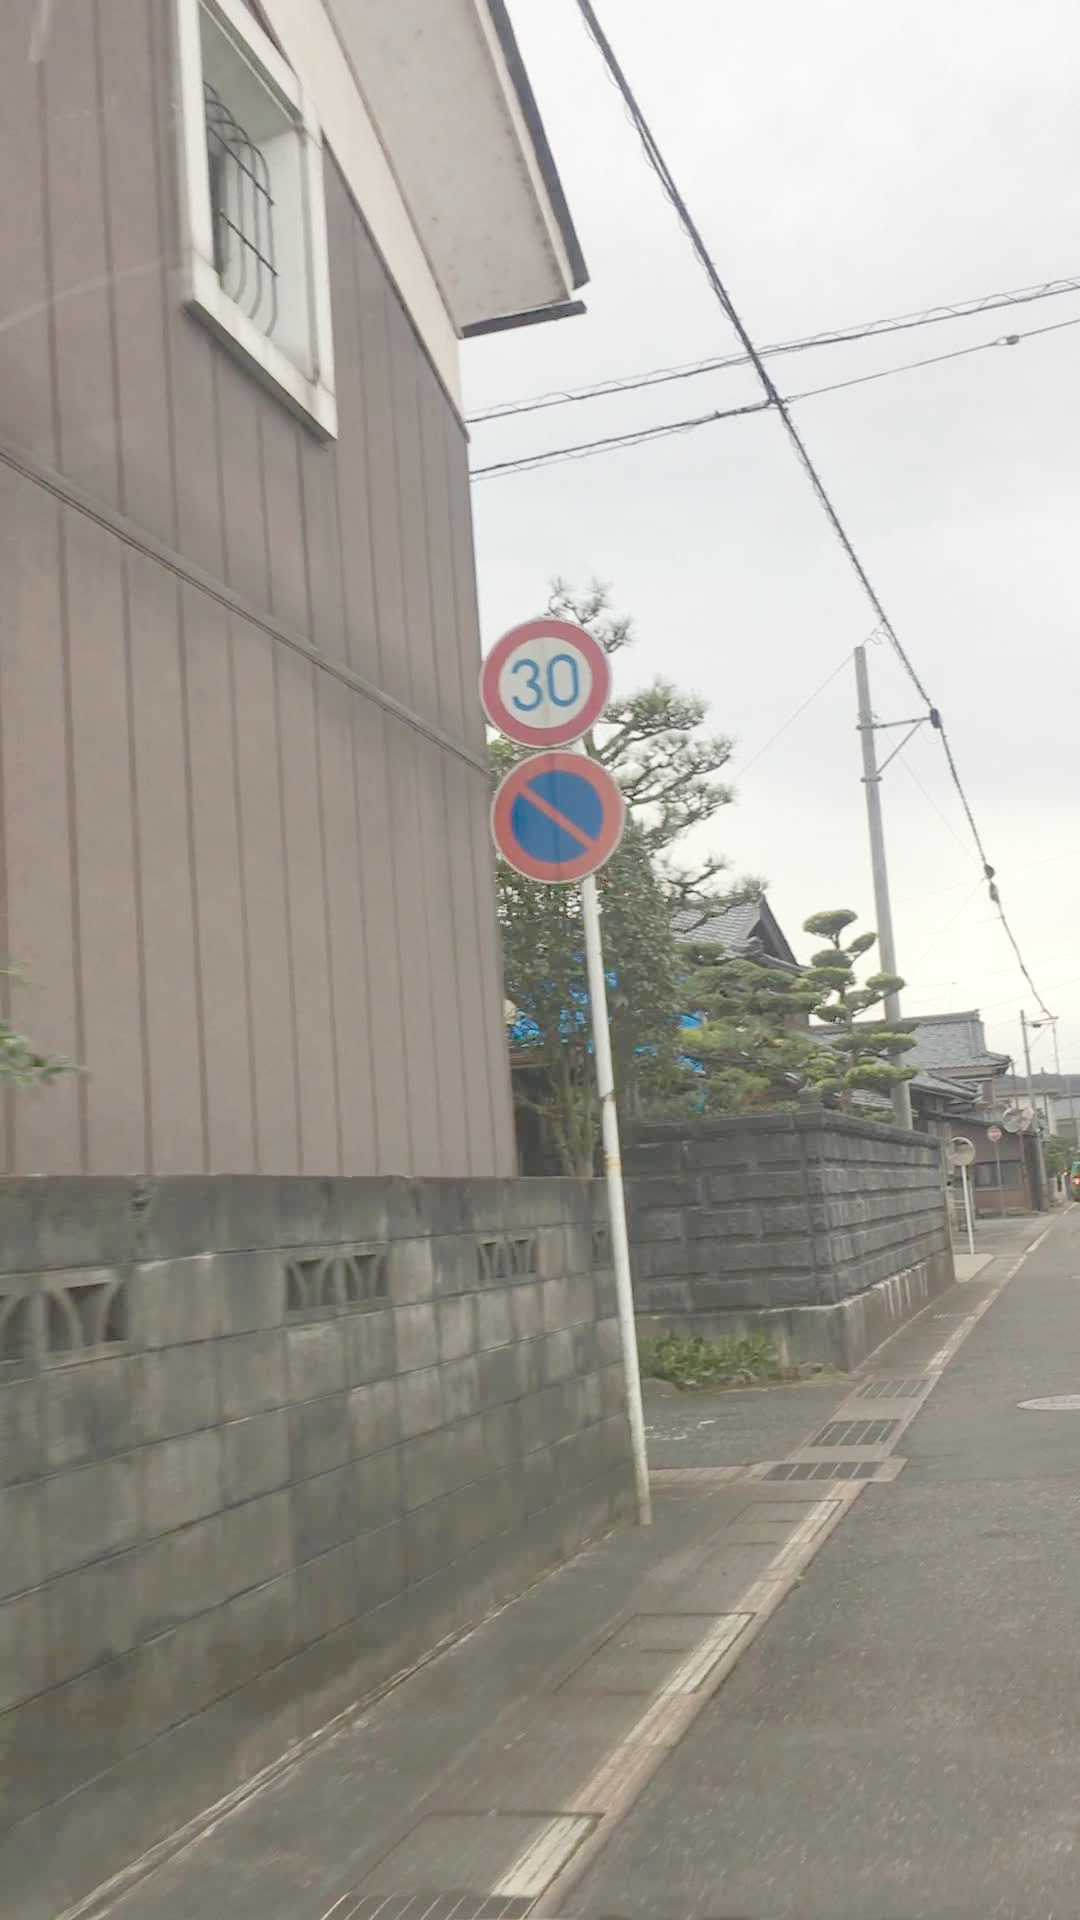Prohibition_sign: (498, 750, 646, 902)
Speed_sign: (472, 624, 607, 742)
